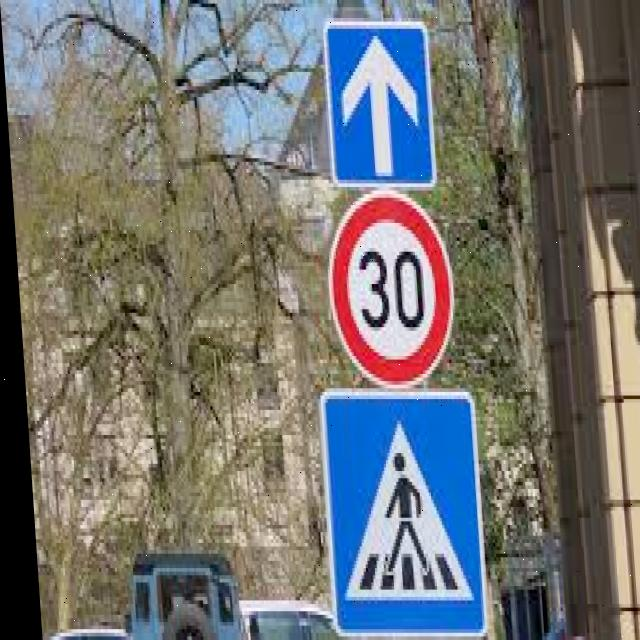Speed limit 30: (319, 188, 456, 389)
